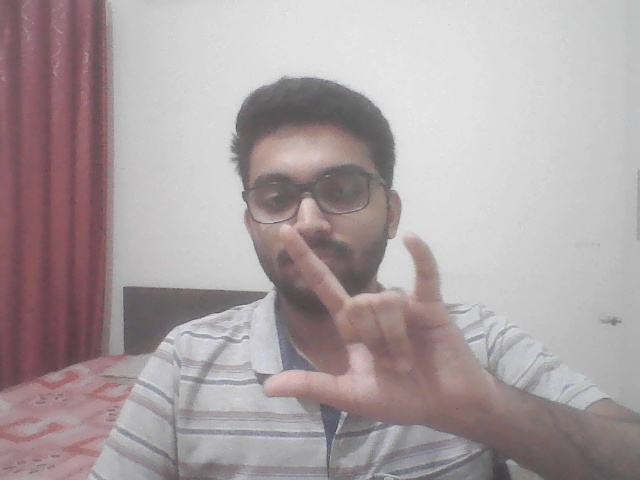iloveyou: (245, 216, 502, 455)
